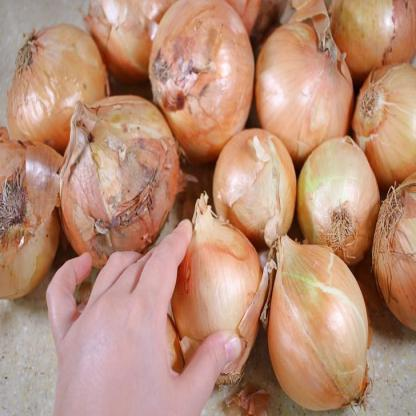onion: (44, 81, 189, 250), (146, 13, 272, 168), (256, 237, 364, 410), (254, 30, 359, 148), (299, 136, 391, 258), (221, 127, 287, 240), (372, 189, 416, 333), (364, 60, 416, 174)
